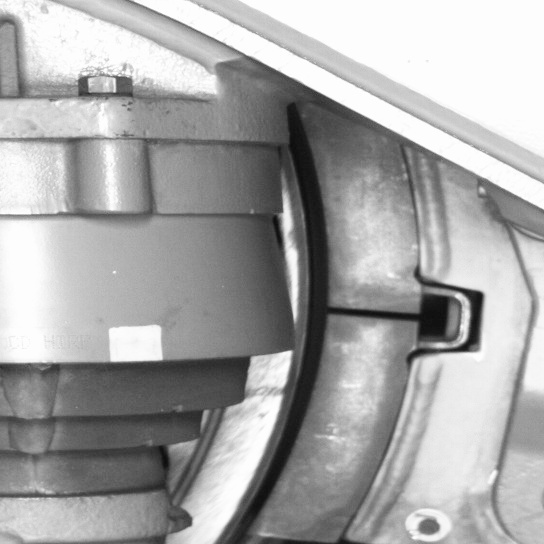KnifeSwitch: (208, 143, 446, 542)
